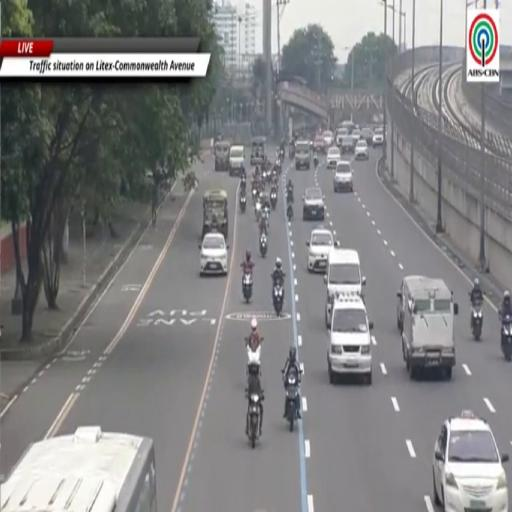bus: (0, 427, 156, 511)
car: (433, 411, 509, 511), (328, 294, 373, 385), (307, 227, 339, 271), (200, 233, 228, 276), (303, 188, 324, 220), (333, 162, 353, 193), (327, 147, 341, 169), (355, 139, 369, 159), (340, 136, 355, 154), (336, 128, 348, 147), (361, 127, 373, 146), (373, 127, 383, 147), (313, 136, 325, 152), (322, 131, 333, 148), (351, 128, 362, 142)
jeepney: (202, 189, 228, 239), (215, 141, 230, 171), (251, 137, 266, 165)
motorcycle: (285, 372, 299, 431), (248, 394, 261, 449), (471, 301, 483, 341), (501, 316, 511, 361), (247, 345, 261, 375), (273, 282, 284, 316), (243, 272, 252, 302), (259, 233, 267, 258), (262, 206, 269, 231), (270, 189, 277, 210), (255, 199, 261, 221), (287, 203, 293, 221), (240, 196, 246, 213), (262, 171, 267, 188), (252, 187, 257, 202), (289, 146, 294, 159), (280, 149, 284, 162), (314, 157, 318, 168)
